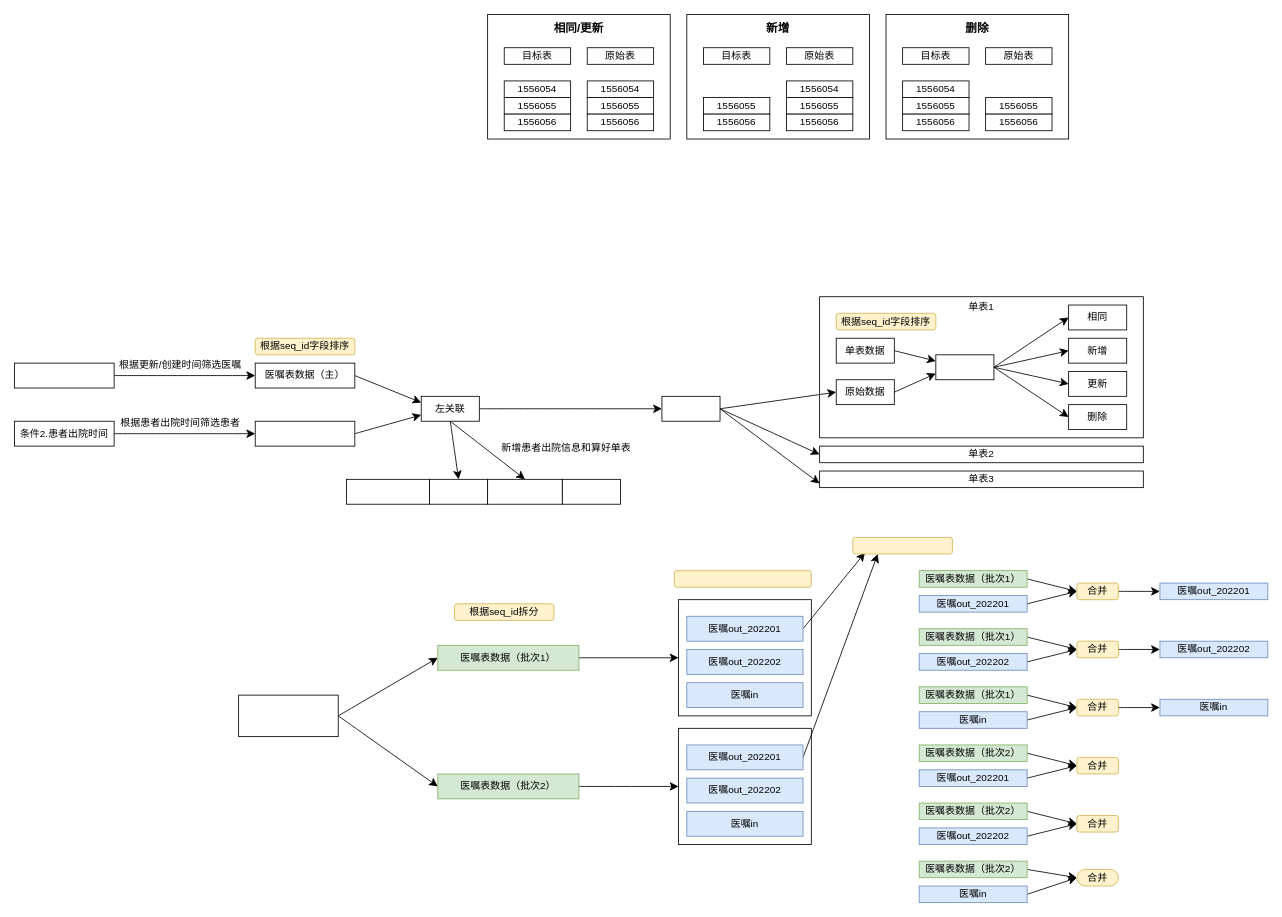
This 1282x917 diagram has some shape labels left out. The shapes that lost their labels are listed below. From the top down, each one's centre as x and y in pixels, then its label:
At point (64, 375): "条件1.更新/创建时间".
At point (964, 367): "排序合并".
At point (690, 408): "路由".
At point (304, 433): "患者表数据".
At point (388, 491): "医嘱数据字段".
At point (458, 491): "患者状态".
At point (524, 491): "患者出院时间".
At point (590, 491): "对应单表".
At point (902, 545): "互补关系".
At point (742, 578): "根据拆分的seq_id范围筛选".
At point (288, 715): "医嘱表数据".
